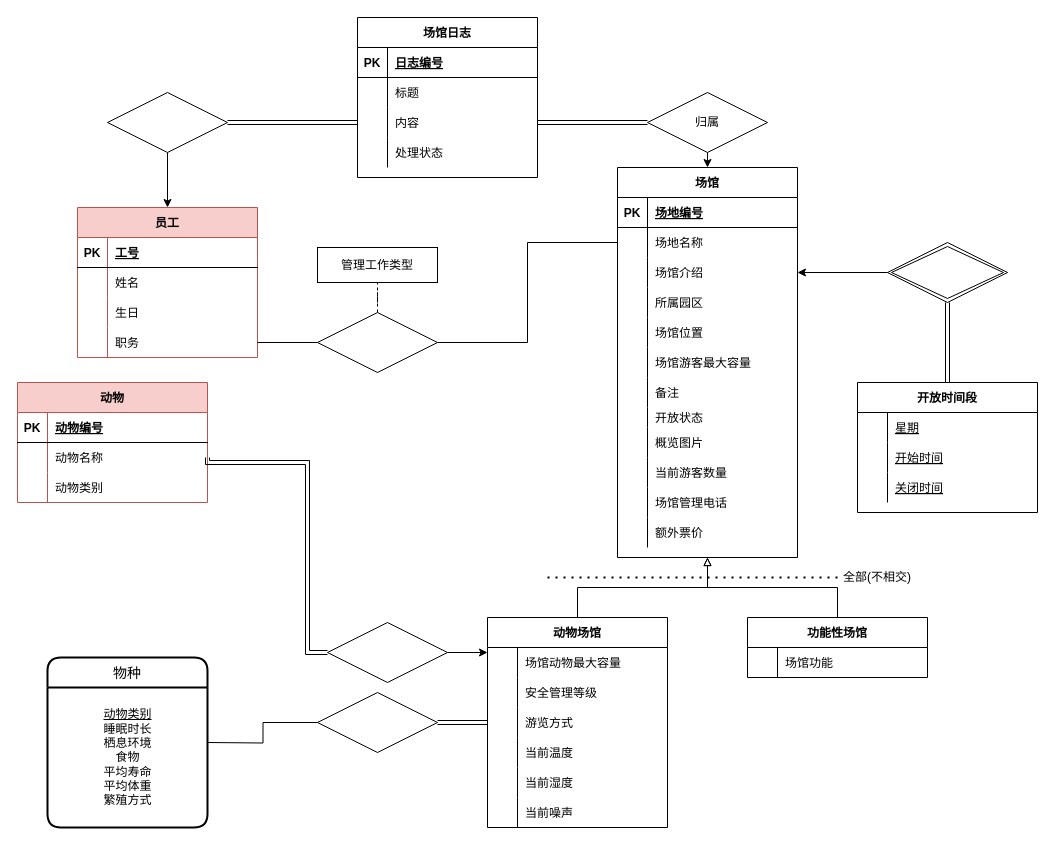
This 1055x846 diagram has some shape labels left out. Each missing label, with the centre of its shape:
"填写" belongs at (167,122).
"居住" belongs at (387,652).
"日常开放于" belongs at (947,272).
"管理" belongs at (377,342).
"领地" belongs at (377,722).
